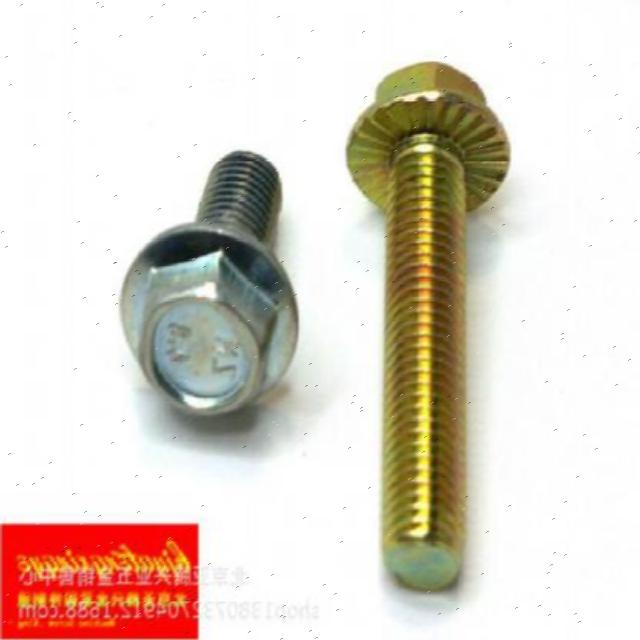Bolt: (346, 58, 510, 592), (118, 151, 302, 423)
